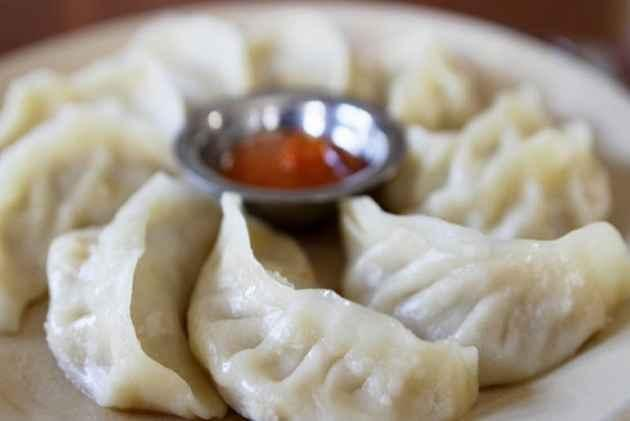momos: (188, 192, 479, 420), (341, 197, 630, 385), (47, 172, 226, 418), (0, 106, 175, 333), (422, 86, 608, 239)
